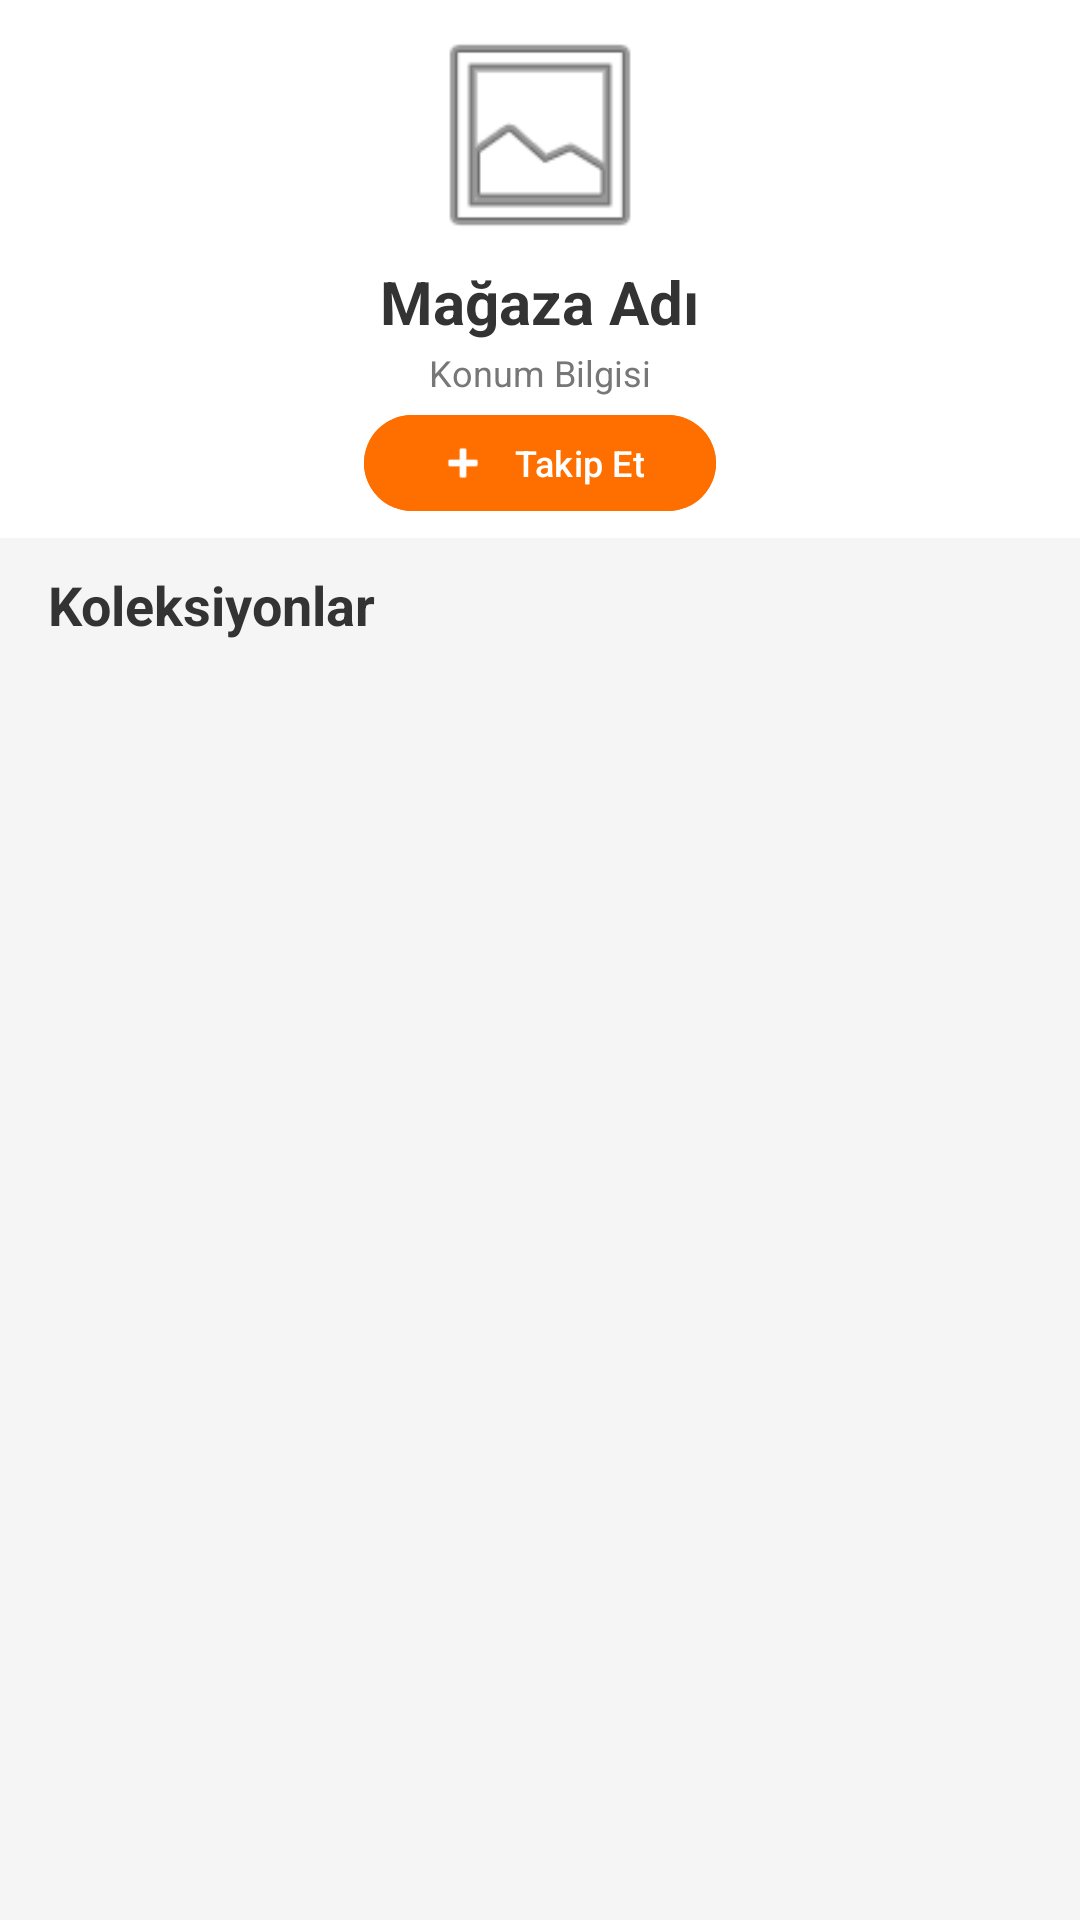

Named icons in this screenshot (1080x1920) and their centers, [x,y]:
gallery: [540,135]
